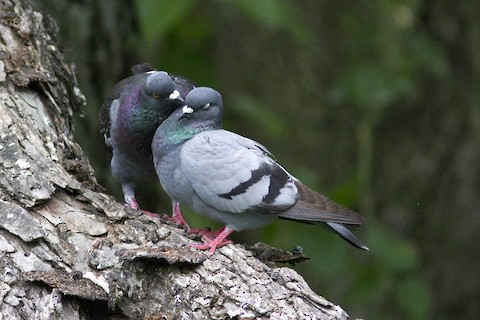pigeon: (154, 80, 372, 271), (98, 62, 202, 216)
